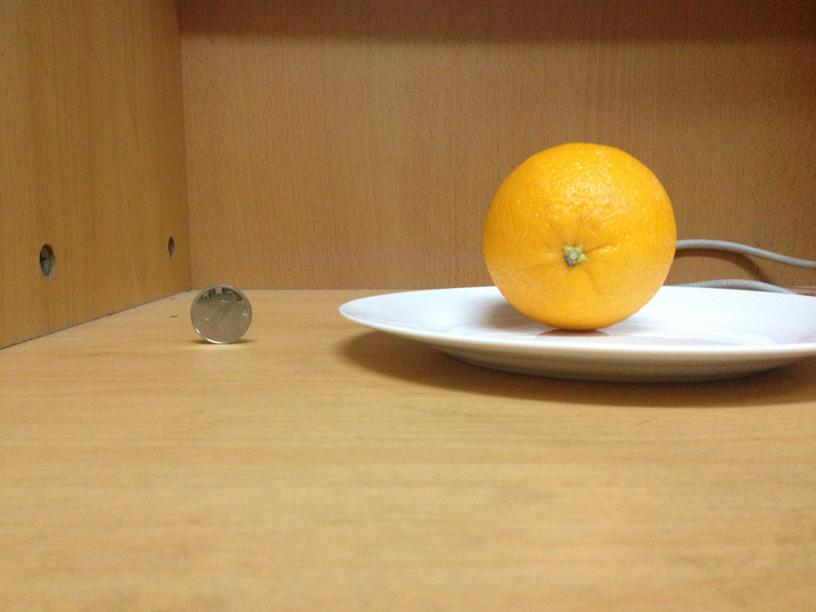coin: (186, 285, 253, 344)
orange: (483, 139, 679, 327)
